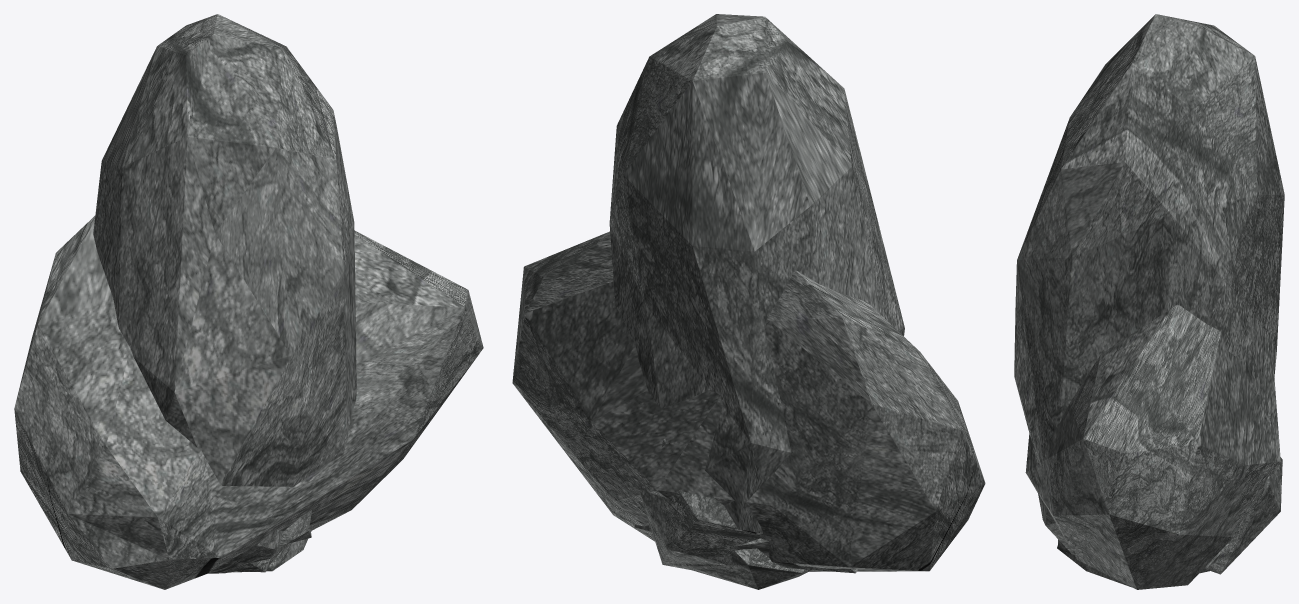
The model's file is Stones.fbx.
The picture shows the model from 3 angles, left to right: view 1: azimuth 30°, elevation 25°; view 2: azimuth 150°, elevation 25°; view 3: azimuth 270°, elevation 25°; orthographic projection. The views are drawn at different scales.
Visible parts, largest first — view 1: Stone05, Stone11, Stone02, Stone09; view 2: Stone05, Stone11, Stone02, Stone01, Stone09; view 3: Stone05, Stone11, Stone02, Stone09, Stone01.
Boxes of the visible parts, bbox=[...] form: Stone05: bbox=[93, 14, 356, 486]; Stone11: bbox=[14, 216, 483, 589]; Stone02: bbox=[208, 529, 283, 573]; Stone09: bbox=[279, 510, 311, 545]; Stone05: bbox=[609, 14, 904, 534]; Stone11: bbox=[512, 231, 985, 571]; Stone02: bbox=[639, 486, 760, 570]; Stone01: bbox=[651, 534, 808, 589]; Stone09: bbox=[634, 522, 857, 573]; Stone05: bbox=[1014, 14, 1284, 469]; Stone11: bbox=[1025, 305, 1280, 589]; Stone02: bbox=[1038, 457, 1282, 574]; Stone09: bbox=[1042, 505, 1230, 568]; Stone01: bbox=[1057, 541, 1220, 587].
Bounding box in the file's own units: 1310 × 1441 × 668.
